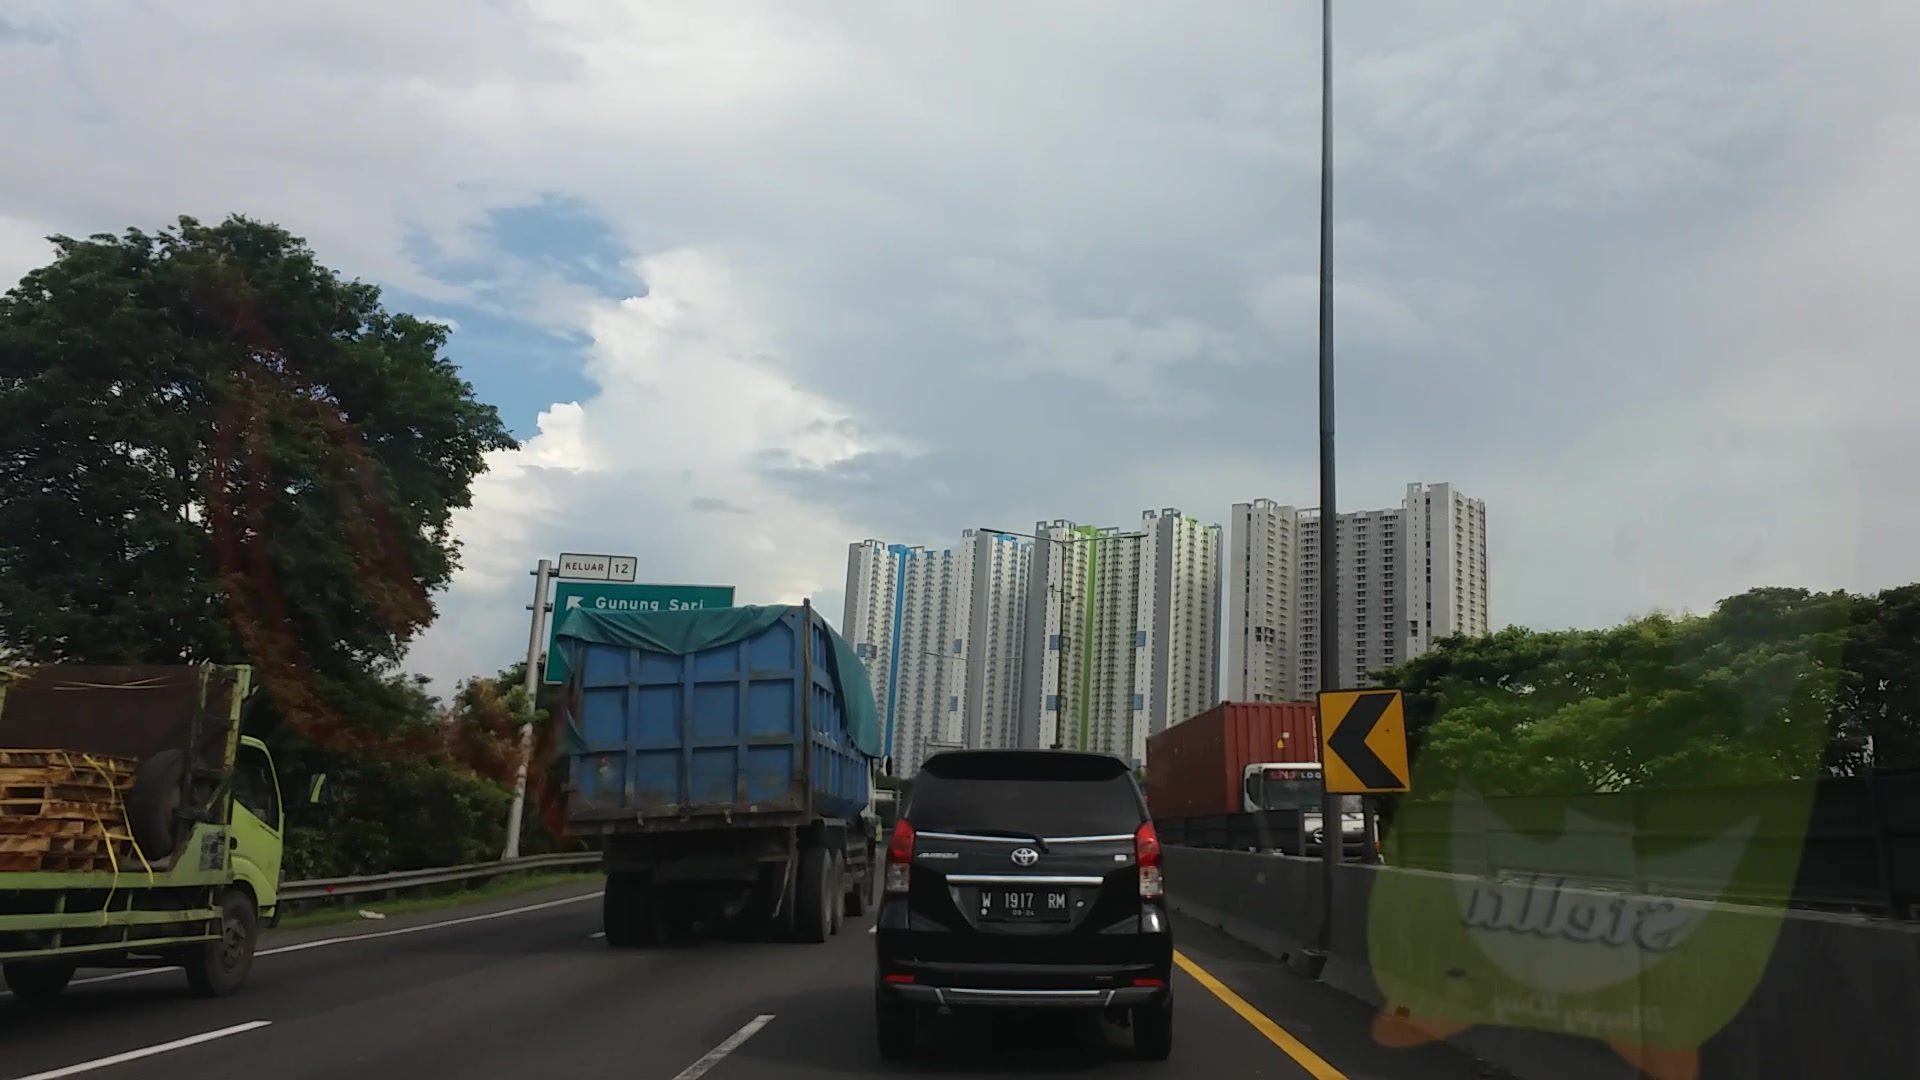plate_positive: (978, 887, 1068, 918)
